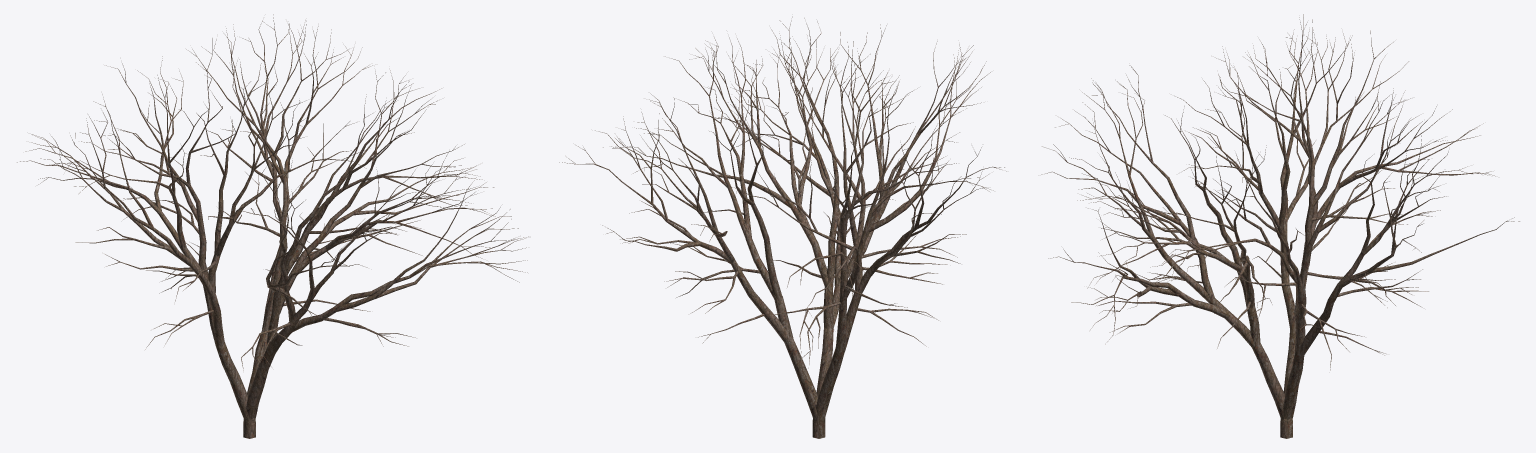
The model's file is arbol_version1.fbx.
3 renders of one model, left to right at view 1: azimuth 30°, elevation 25°; view 2: azimuth 150°, elevation 25°; view 3: azimuth 270°, elevation 25°, orthographic.
Parts seen in each view (by area): view 1: tree; view 2: tree; view 3: tree.
Part boxes in pixels (x1,y1,x2,y2): tree: (17,14,528,438); tree: (559,16,1006,438); tree: (1041,14,1519,438).
Bounding box in the file's own units: 1751 × 1580 × 1837.
1 material, 1 textured.
